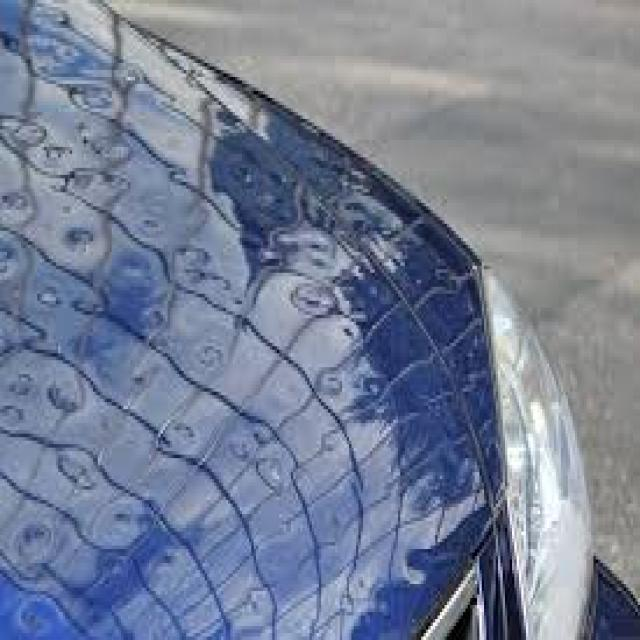minor: (16, 0, 272, 518)
